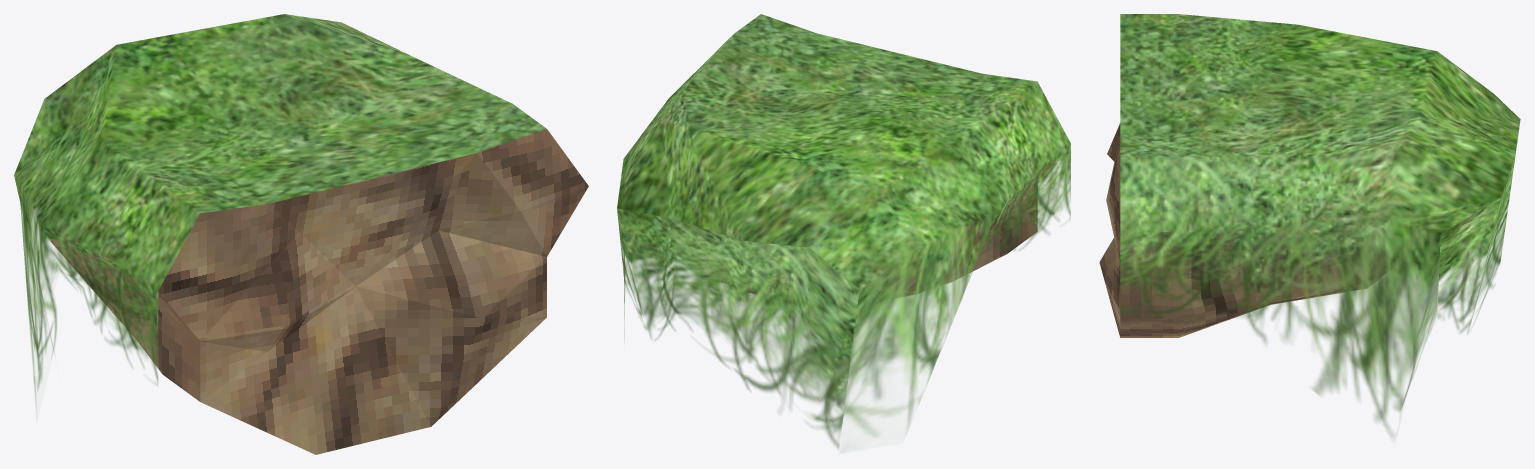
3 renders of one model, left to right at view 1: azimuth 30°, elevation 25°; view 2: azimuth 150°, elevation 25°; view 3: azimuth 270°, elevation 25°, orthographic. The views are drawn at different scales.
Parts seen in each view (by area): view 1: objend, objCap01; view 2: objCap01, objend; view 3: objCap01, objend.
Part boxes in pixels (bbox=[...]): objend: bbox=[50, 129, 588, 454]; objCap01: bbox=[14, 14, 546, 402]; objCap01: bbox=[617, 14, 1070, 448]; objend: bbox=[720, 158, 1055, 297]; objCap01: bbox=[1120, 14, 1520, 436]; objend: bbox=[1099, 123, 1386, 337].
Size of the model in its own units: 255 by 194 by 248.
Materials: 2 (2 with a texture image).
